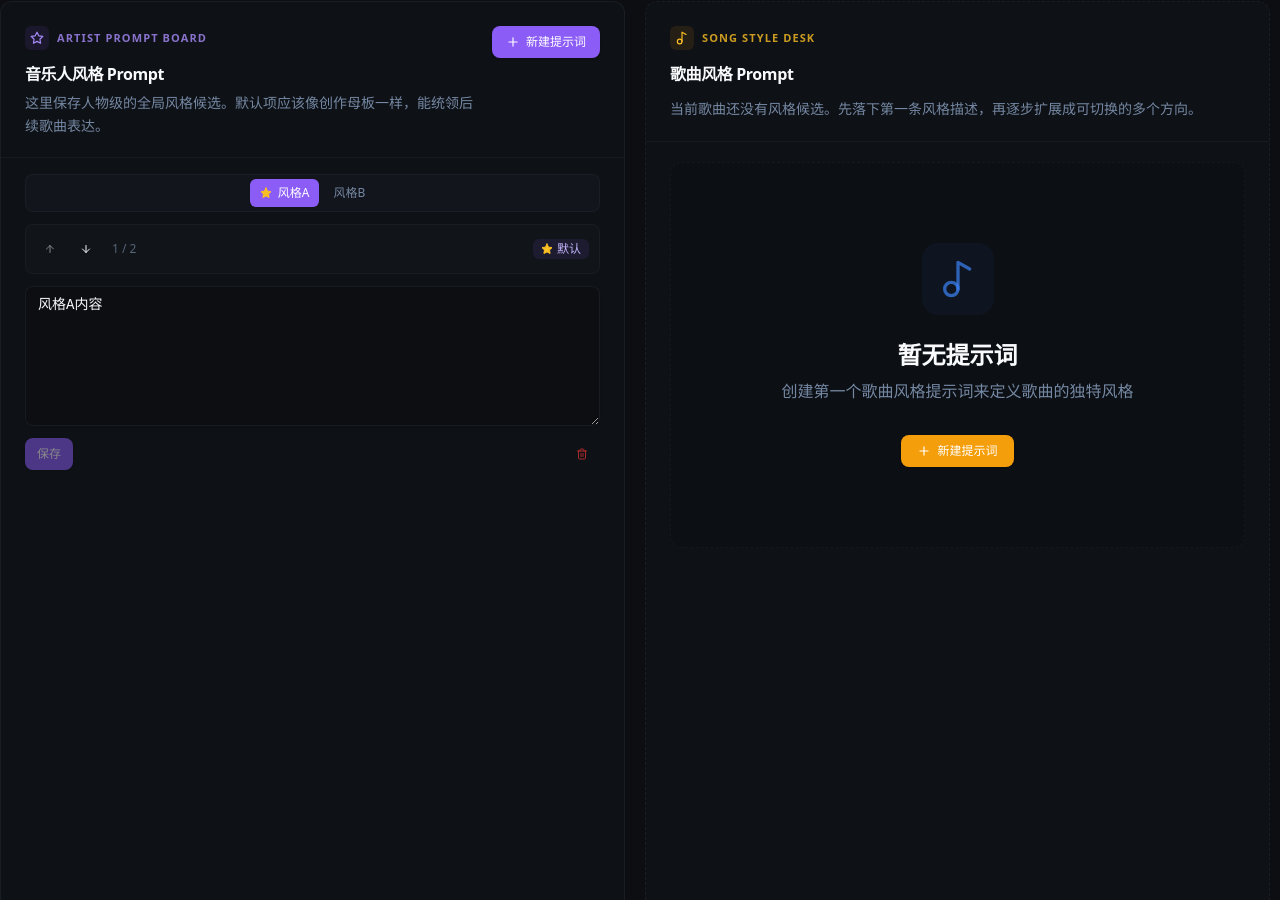
Test case: ArtistWorkspace › opens the create song-style prompt dialog from the empty song prompt state
The image size is (1280, 900).
(page scrolled)
Check: the text "歌曲风格 Prompt" is shown, box [670, 63, 794, 85]
What coordinates should you click on to do the following:
click the button "新建提示词" below "创建第一个歌曲风格提示词来定义歌曲的独特风格"
I would click on:
 (958, 450)
Its box is [902, 434, 1014, 466].
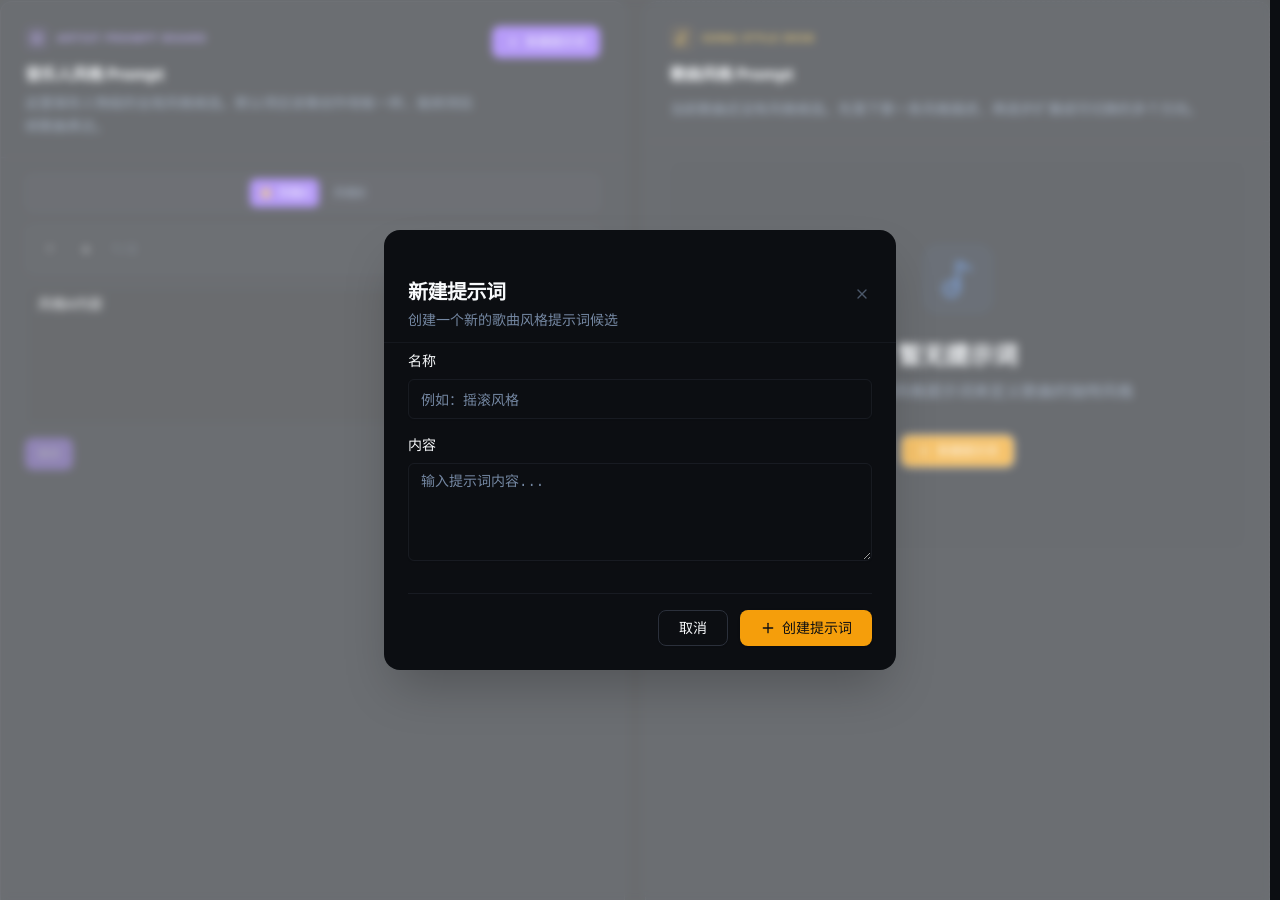
Check: the heading "新建提示词" is shown, box [408, 278, 506, 305]
Check: the text "创建一个新的歌曲风格提示词候选" is shown, box [408, 310, 618, 329]
